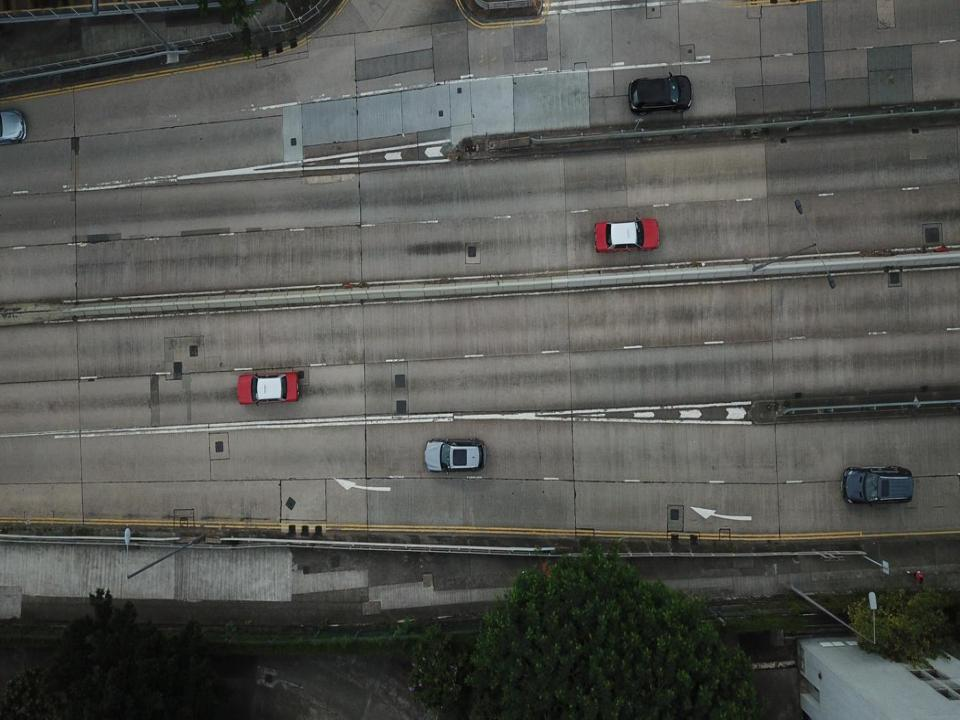car: (629, 72, 693, 113), (425, 439, 486, 474), (594, 220, 660, 252), (235, 374, 300, 404), (0, 110, 28, 142)
van: (842, 466, 912, 507)
